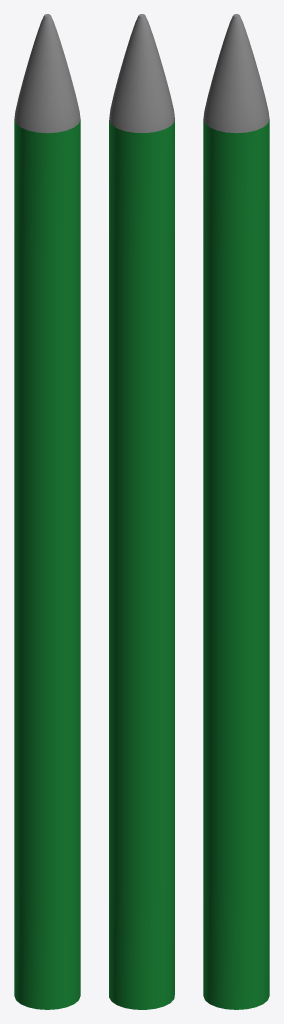
Rendered from Pencils.glb.
The picture shows the model from 3 angles, left to right: view 1: azimuth 90°, elevation 25°; view 2: azimuth 150°, elevation 25°; view 3: azimuth 270°, elevation 25°; orthographic projection.
Parts seen in each view (by area): view 1: id3, id5; view 2: id3, id5; view 3: id3, id5.
Boxes of the visible parts, bbox=[...] form: id3: bbox=[14, 119, 80, 1009]; id5: bbox=[14, 14, 80, 133]; id3: bbox=[109, 118, 174, 1009]; id5: bbox=[109, 14, 174, 132]; id3: bbox=[203, 119, 269, 1009]; id5: bbox=[203, 14, 269, 133].
Size of the model in its own units: 0.0104 by 0.17 by 0.0104.
